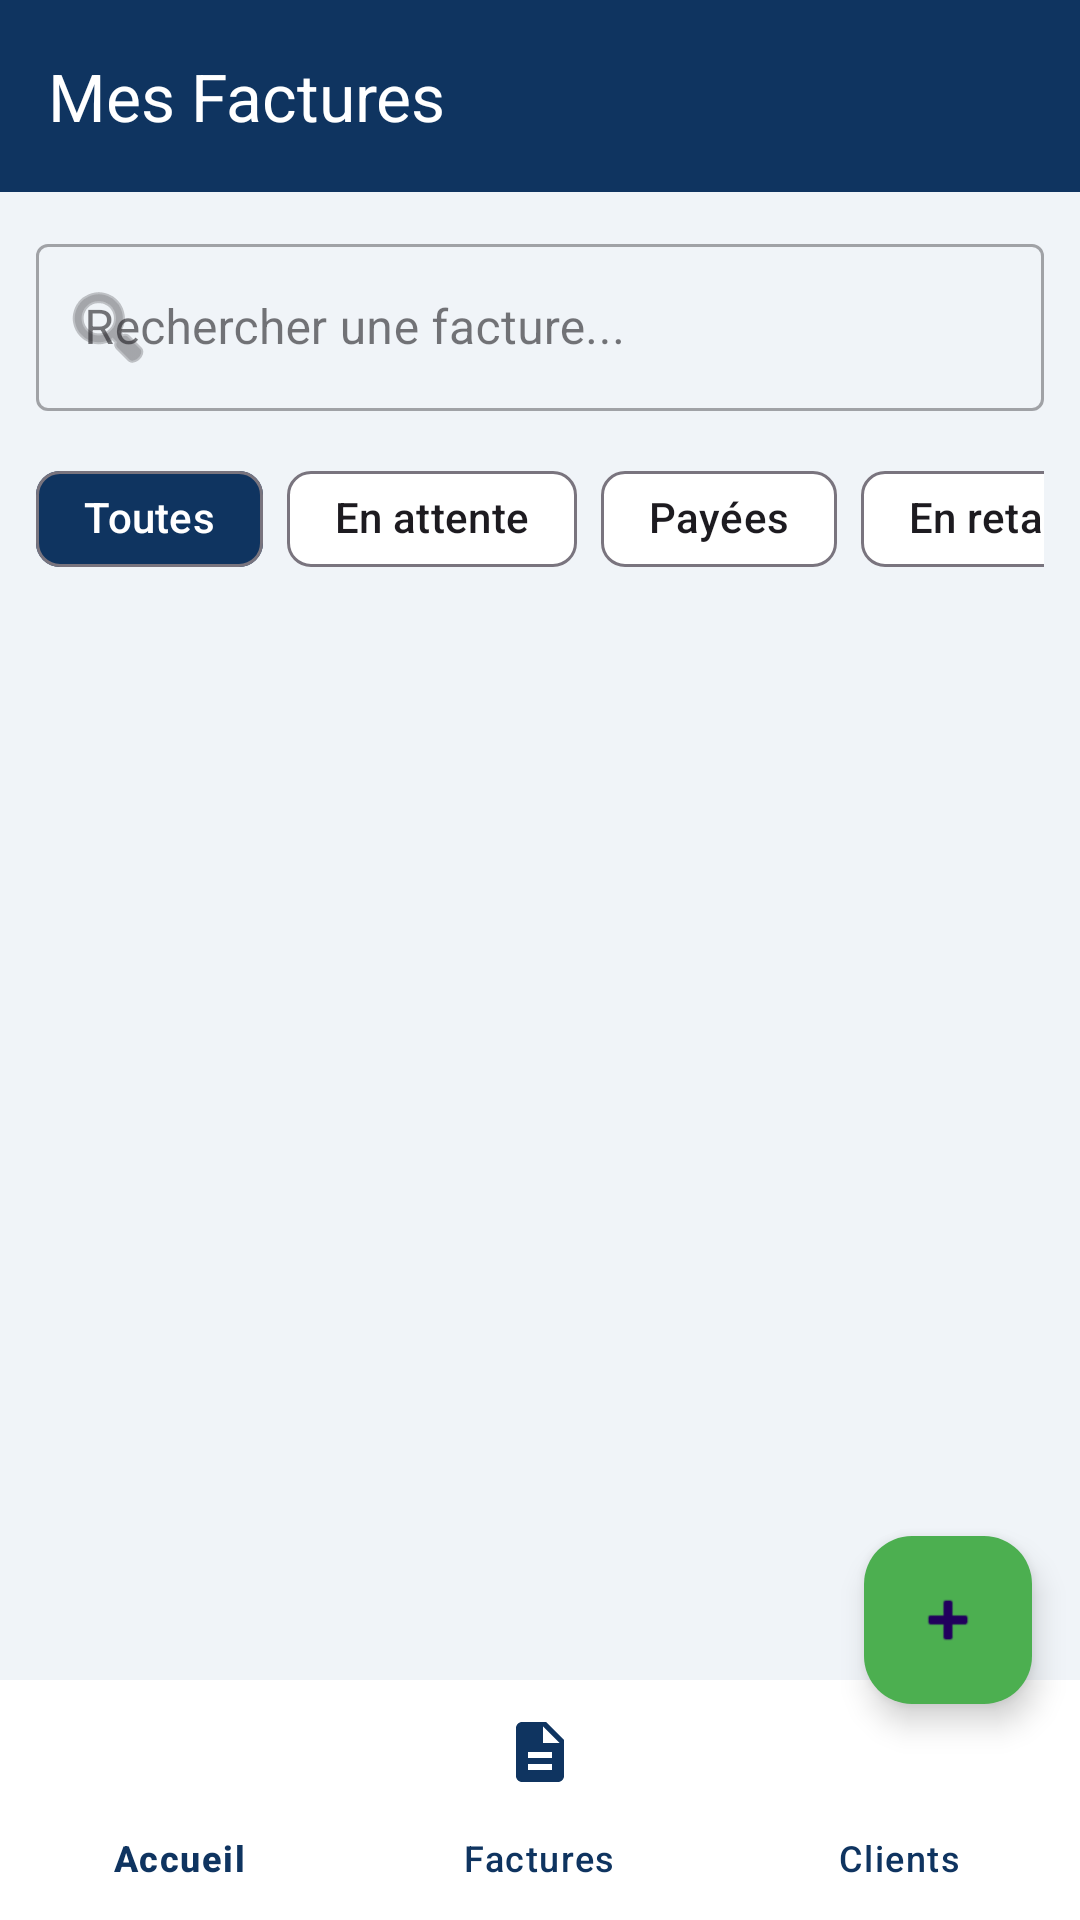

Where to tap for icons on this 1080*1920 app screen, as (x=x, y=y):
Nouvelle facture: (x=948, y=1620)
